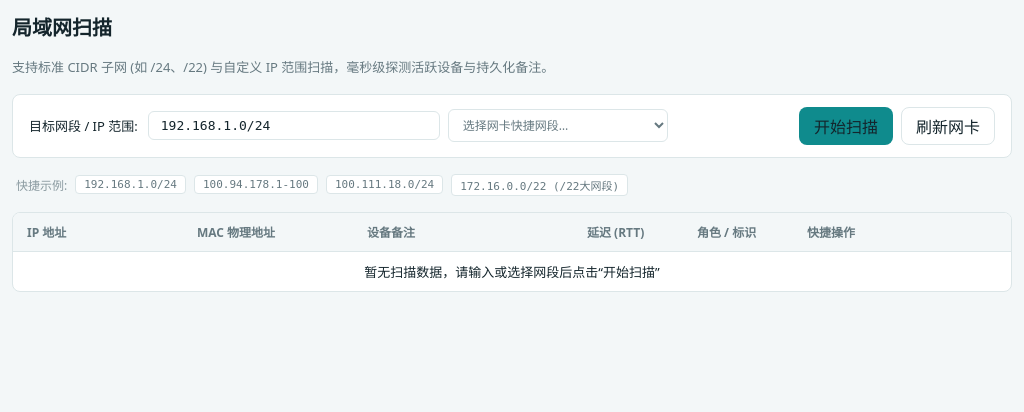
Scenario: LanScannerView 交互：复制与行内备注 › 行内编辑备注：有 MAC 以 MAC 为键回写并刷新行文本
Click the button "开始扫描" at (846, 126), box [799, 107, 893, 145]
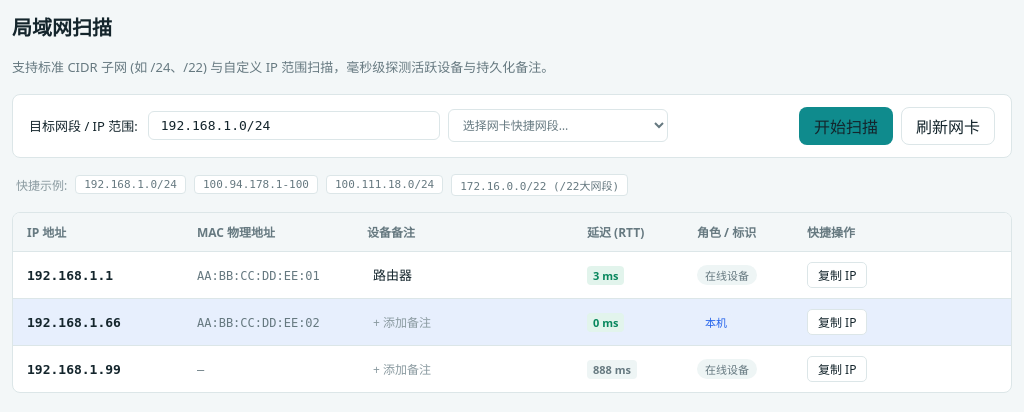
Click the element with class "remark-display" in the row of "192.168.1.66" at (402, 322), box [373, 314, 431, 331]
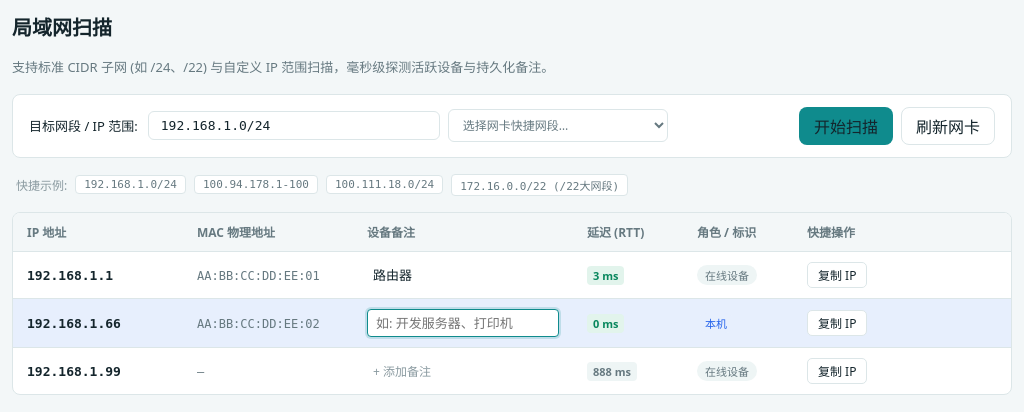
Type "开发机" into the field with placeholder "如: 开发服务器、打印机" at (463, 323), box [367, 309, 559, 337]
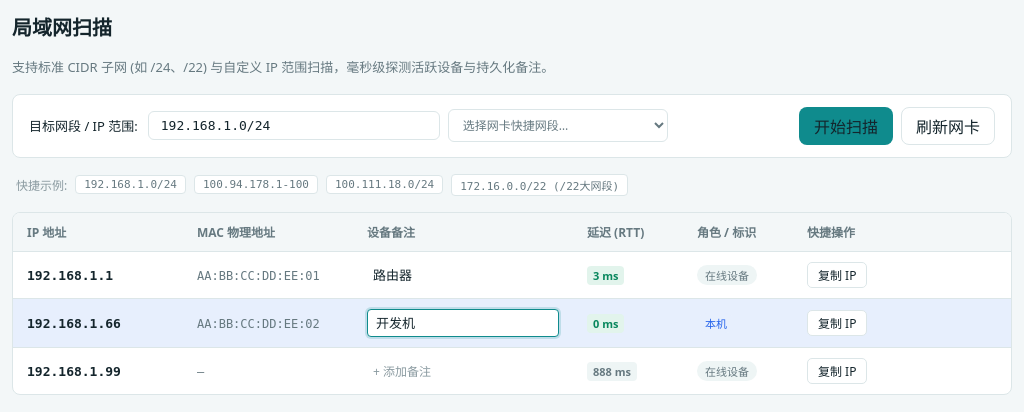
Press Enter in the field in the row of "192.168.1.66", box [367, 309, 559, 337]
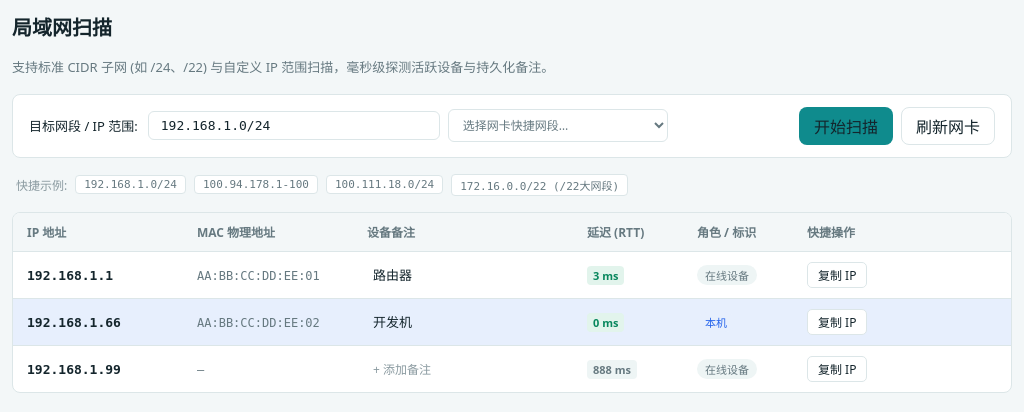
expect the row "192.168.1.66 AA:BB:CC:DD:EE:02 开发机 0 ms 本机 复制 IP" is shown: met, box [13, 298, 1011, 345]
